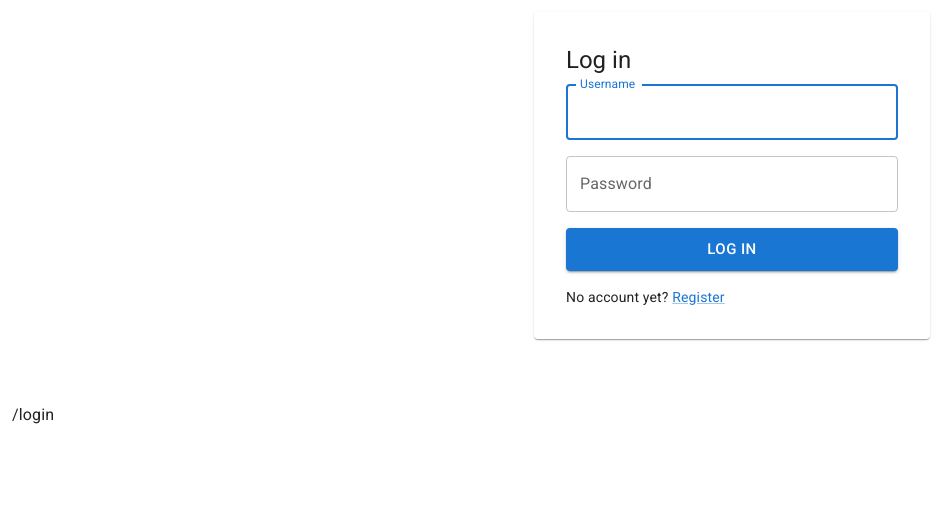
LoginPage › shows field errors from the API
This screenshot has width=948, height=528.
Check: the heading "Log in" is shown, box [566,46,631,74]
Type "alice" into the field labelled "Username".
click(732, 112); type("alice")  # box [566,84,898,140]
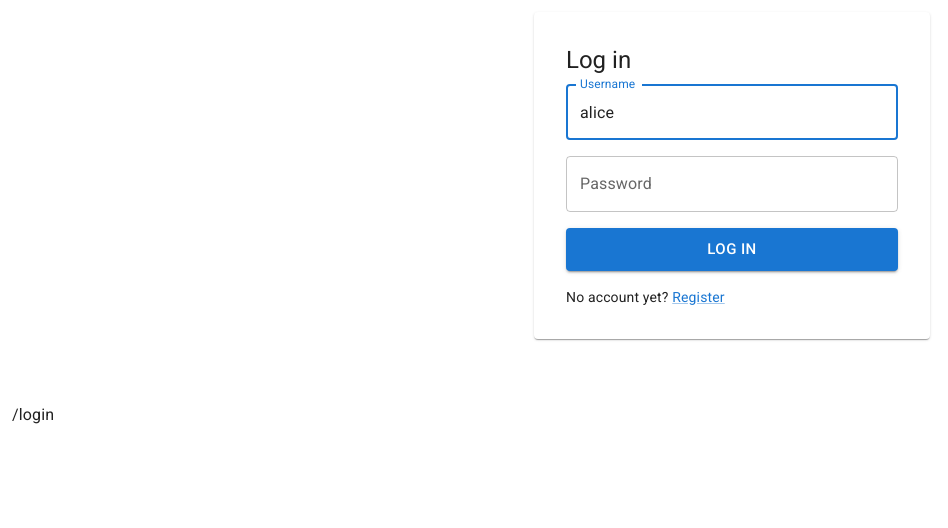
Type "whatever" into the password field labelled "Password".
click(732, 184); type("whatever")  # box [566,156,898,212]
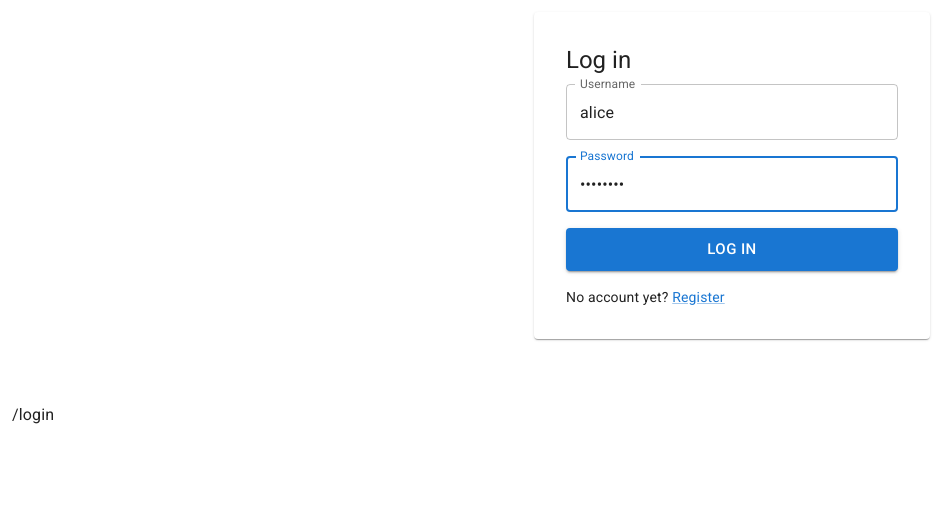
Click the button "Log in".
click(732, 250)  # box [566,228,898,271]
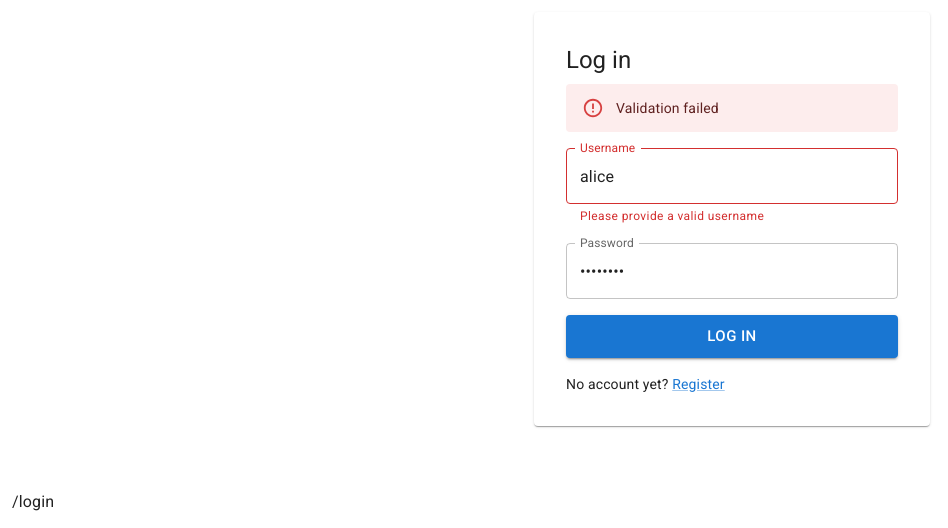
Check: the text "Please provide a valid username" is shown, box [580,209,764,223]
